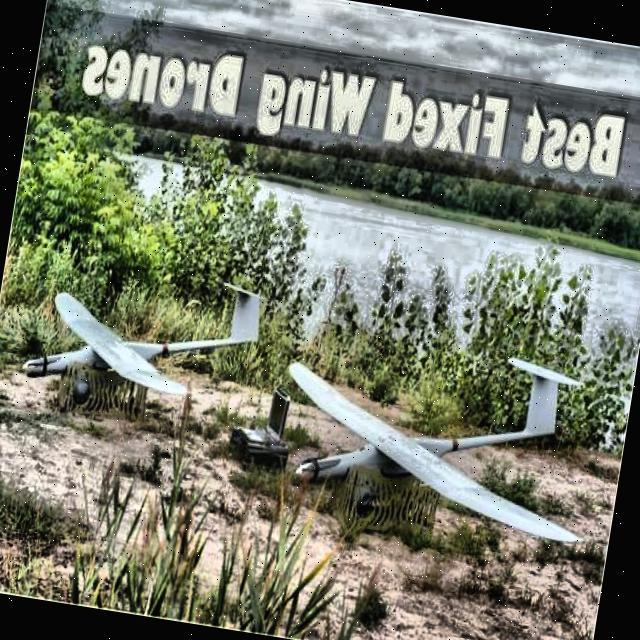iha: (264, 302, 616, 548), (5, 228, 285, 442)
